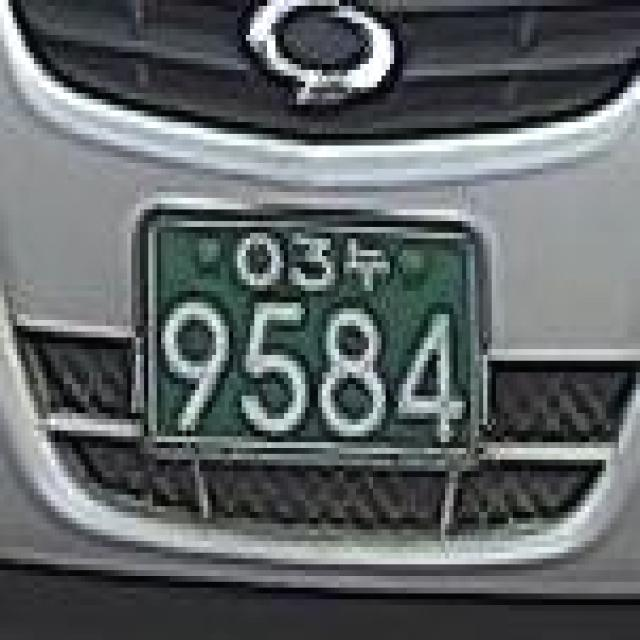illegal_plate: (128, 193, 498, 476)
